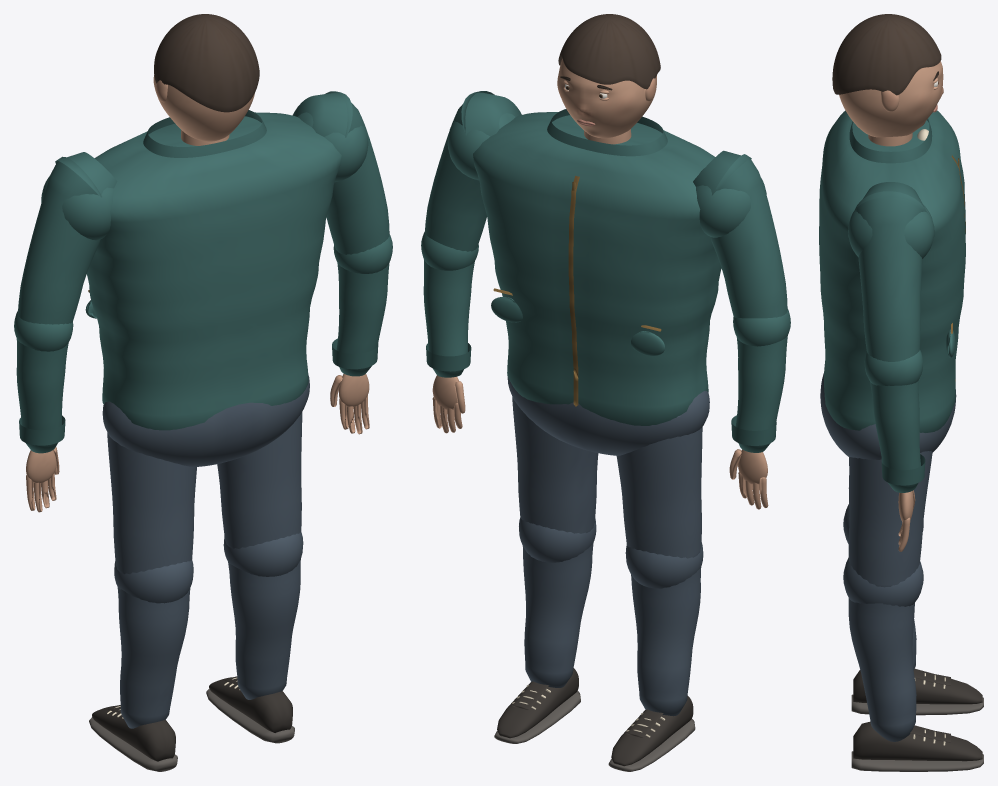
The model's file is nitches_player.glb.
3 renders of one model, left to right at view 1: azimuth 30°, elevation 25°; view 2: azimuth 150°, elevation 25°; view 3: azimuth 270°, elevation 25°, orthographic. The views are drawn at different scales.
Parts seen in each view (by area): view 1: Torso_Jacket - deep teal, UpperArmL_Jacket - deep teal, ShinL_Trousers - charcoal blue, ShinR_Trousers - charcoal blue, ThighL_Trousers - charcoal blue, UpperArmR_Jacket - deep teal, ThighR_Trousers - charcoal blue, Torso_Trousers - charcoal blue, Head_Hair - dark brown, ForearmL_Jacket - deep teal, ForearmR_Jacket - deep teal, Head_Skin (+6 smaller); view 2: Torso_Jacket - deep teal, UpperArmL_Jacket - deep teal, ShinL_Trousers - charcoal blue, ShinR_Trousers - charcoal blue, ThighL_Trousers - charcoal blue, UpperArmR_Jacket - deep teal, ThighR_Trousers - charcoal blue, ForearmL_Jacket - deep teal, ForearmR_Jacket - deep teal, Torso_Trousers - charcoal blue, Head_Hair - dark brown, Head_Skin (+7 smaller); view 3: Torso_Jacket - deep teal, UpperArmR_Jacket - deep teal, ShinR_Trousers - charcoal blue, ThighR_Trousers - charcoal blue, Head_Hair - dark brown, ForearmR_Jacket - deep teal, Head_Skin, FootR_Shoes - dark leather, Torso_Trousers - charcoal blue, FootL_Shoes - dark leather, FootR_Shoe sole - rubber, FootL_Shoe sole - rubber (+3 smaller).
Part boxes in pixels (x1,y1,x2,y2): Torso_Jacket - deep teal: (85, 110, 341, 430); UpperArmL_Jacket - deep teal: (18, 152, 117, 324); ShinL_Trousers - charcoal blue: (114, 560, 193, 728); ShinR_Trousers - charcoal blue: (223, 532, 303, 699); ThighL_Trousers - charcoal blue: (107, 432, 196, 574); UpperArmR_Jacket - deep teal: (292, 91, 389, 254); ThighR_Trousers - charcoal blue: (217, 412, 302, 548); Torso_Trousers - charcoal blue: (102, 375, 309, 466); Head_Hair - dark brown: (154, 14, 259, 112); ForearmL_Jacket - deep teal: (14, 311, 73, 453); ForearmR_Jacket - deep teal: (332, 234, 392, 376); Head_Skin: (153, 75, 254, 141); Torso_Jacket - deep teal: (473, 109, 721, 425); UpperArmL_Jacket - deep teal: (693, 150, 787, 318); ShinL_Trousers - charcoal blue: (625, 542, 703, 716); ShinR_Trousers - charcoal blue: (519, 518, 596, 687); ThighL_Trousers - charcoal blue: (616, 416, 702, 558); UpperArmR_Jacket - deep teal: (425, 91, 521, 251); ThighR_Trousers - charcoal blue: (512, 397, 598, 533); ForearmL_Jacket - deep teal: (731, 309, 790, 452); ForearmR_Jacket - deep teal: (421, 232, 478, 377); Torso_Trousers - charcoal blue: (507, 377, 709, 455); Head_Hair - dark brown: (558, 14, 660, 90); Head_Skin: (557, 58, 656, 138); Torso_Jacket - deep teal: (819, 110, 965, 432); UpperArmR_Jacket - deep teal: (848, 182, 934, 361); ShinR_Trousers - charcoal blue: (843, 557, 923, 741); ThighR_Trousers - charcoal blue: (848, 451, 932, 587); Head_Hair - dark brown: (832, 14, 941, 95); ForearmR_Jacket - deep teal: (864, 350, 925, 492); Head_Skin: (839, 61, 943, 137); FootR_Shoes - dark leather: (853, 721, 982, 761); Torso_Trousers - charcoal blue: (820, 373, 956, 459); FootL_Shoes - dark leather: (853, 668, 982, 704); FootR_Shoe sole - rubber: (851, 751, 983, 771); FootL_Shoe sole - rubber: (851, 694, 983, 715).
Size of the model in its own units: 0.982 by 1.84 by 0.381.
